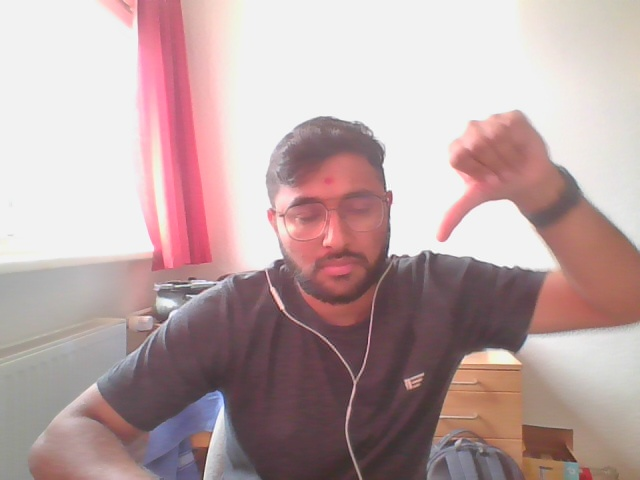ThumbsDown: (436, 109, 552, 244)
